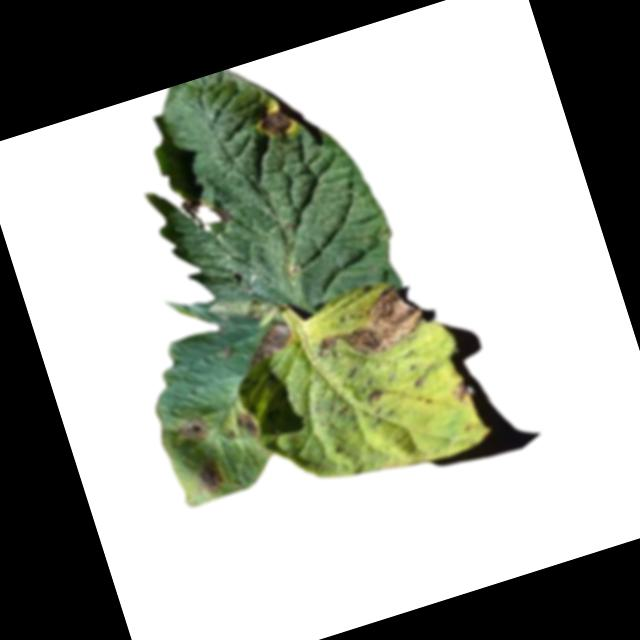Early_blight: (304, 280, 431, 374), (240, 318, 300, 368), (178, 188, 235, 236), (251, 106, 295, 143), (192, 456, 227, 495), (177, 414, 212, 447), (233, 411, 259, 446), (448, 380, 471, 404), (364, 388, 386, 407)
